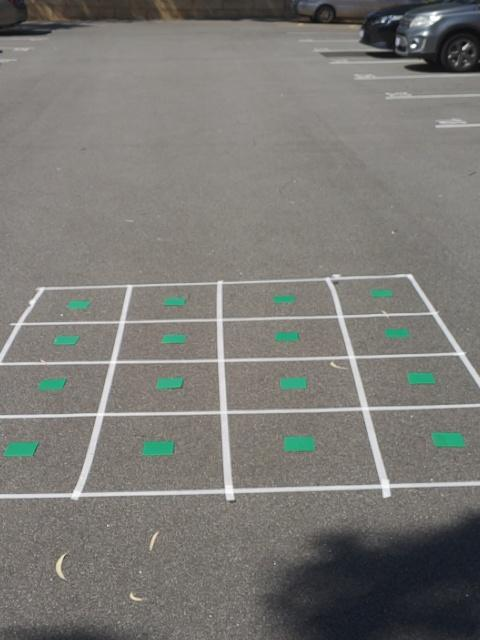weed: (140, 434, 179, 462), (276, 432, 323, 454), (404, 364, 440, 391), (431, 426, 469, 449), (6, 437, 41, 461), (278, 372, 310, 394), (152, 373, 187, 393), (33, 376, 72, 393), (269, 328, 304, 346), (379, 323, 412, 341), (268, 291, 299, 308), (366, 283, 398, 299), (160, 294, 190, 308), (51, 333, 80, 347), (67, 296, 91, 312), (160, 332, 186, 344)
